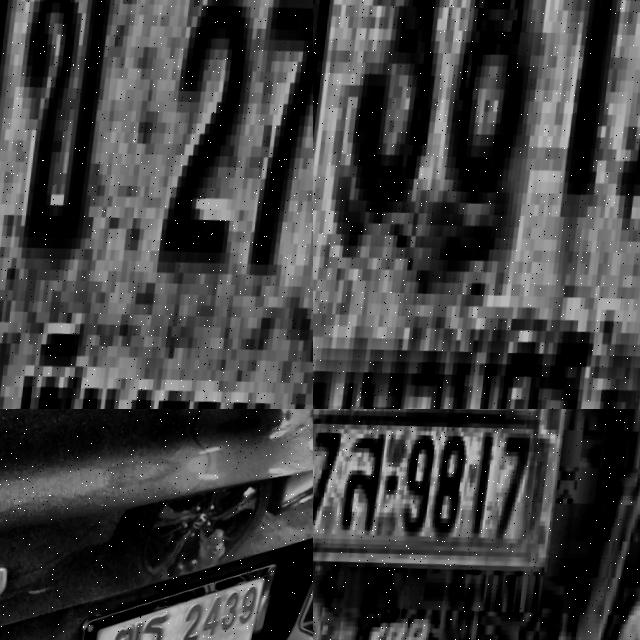license-plate: (313, 0, 640, 409), (0, 0, 313, 409), (313, 409, 593, 597), (69, 551, 286, 640)
